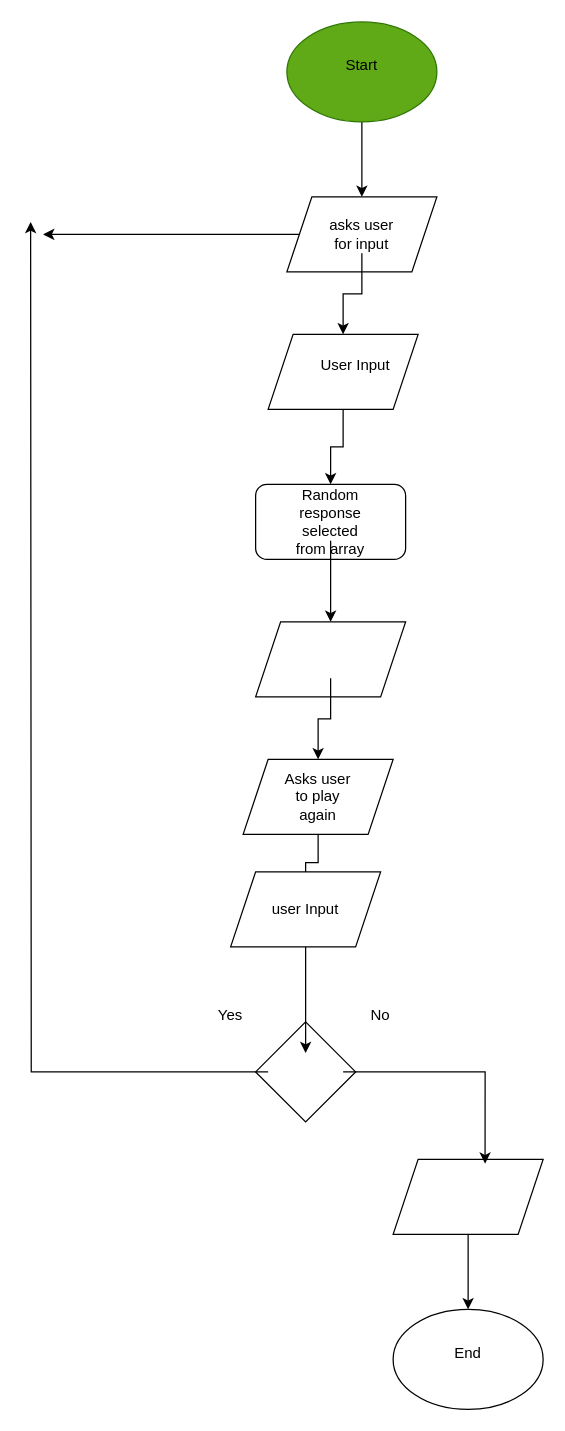
Some shapes in this 565 by 1431 pixel diagram are drawn without their labels. Here are the shapes that lost their labels. From the top down, the centre of each, then its label:
the point at 330,659: Outputs Random Response
the point at 305,1071: Play Again/
the point at 467,1196: Thanks user for playing
